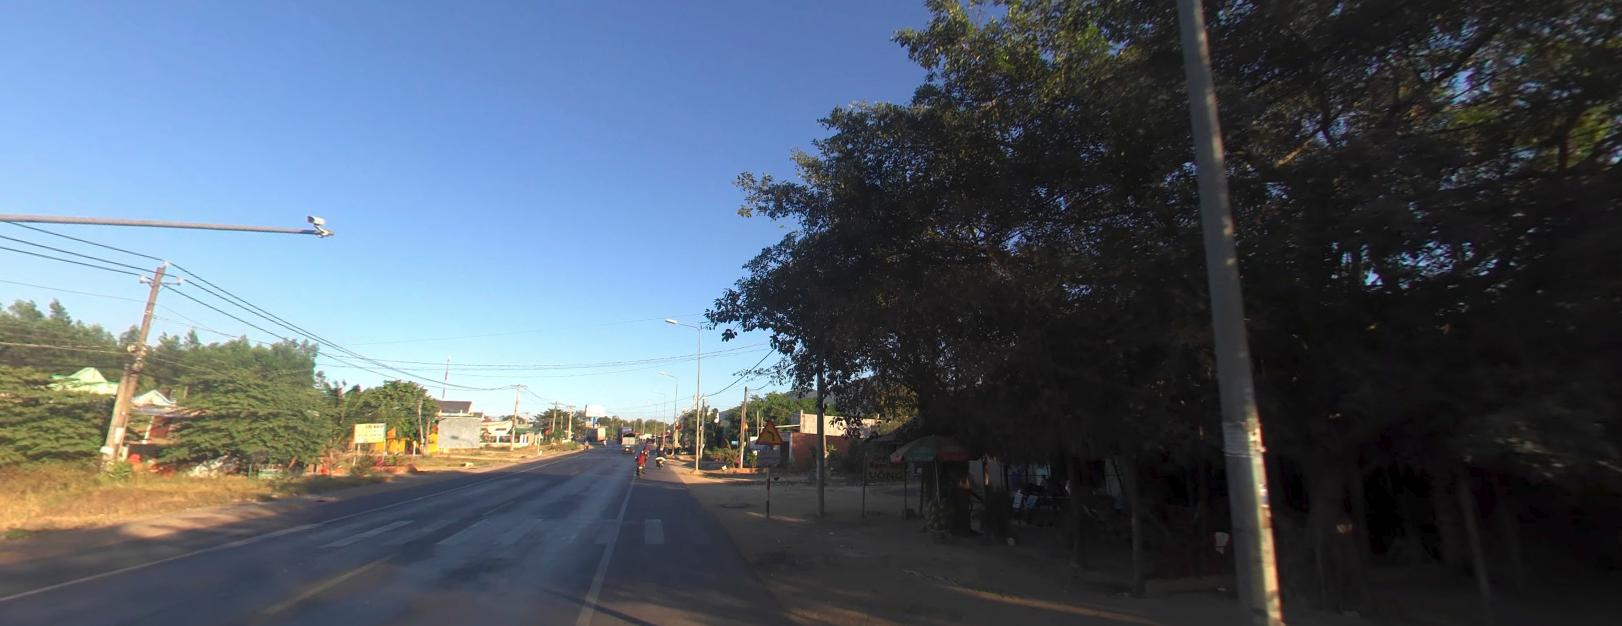Nguy hiem: (754, 418, 783, 443), (755, 418, 782, 443)
